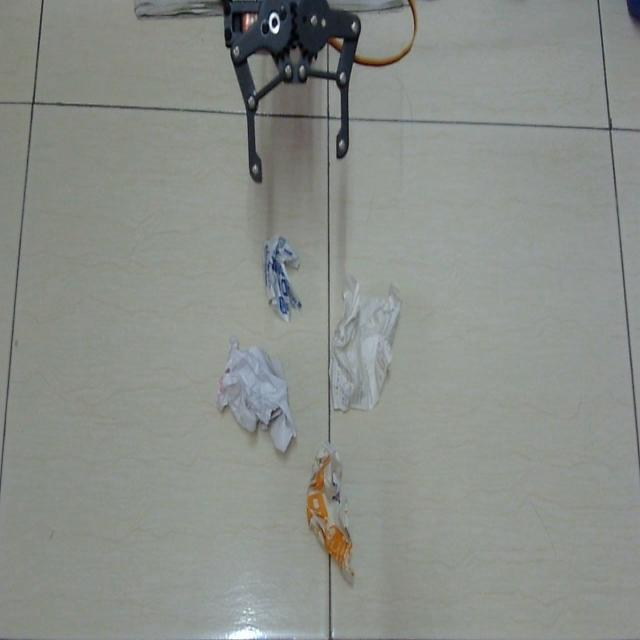paperrotation: (322, 270, 412, 426), (216, 324, 300, 462), (302, 439, 363, 589), (260, 226, 302, 322)
